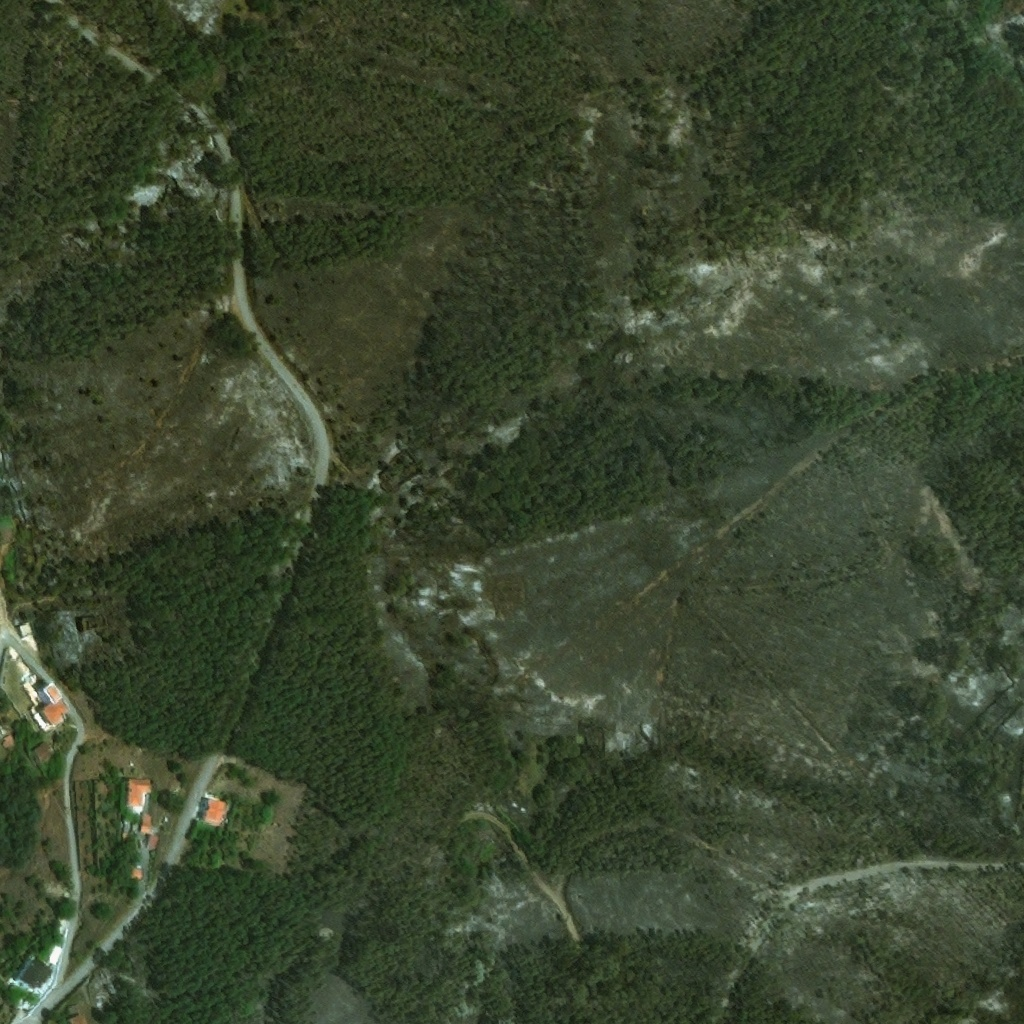0 no-damage: (0, 951, 54, 1015), (32, 682, 71, 731), (126, 779, 152, 808), (202, 798, 228, 825), (32, 741, 57, 764), (2, 735, 20, 754), (140, 814, 154, 835), (50, 946, 63, 966), (129, 866, 144, 882), (147, 835, 159, 850), (72, 1015, 89, 1023), (69, 1004, 80, 1015)
